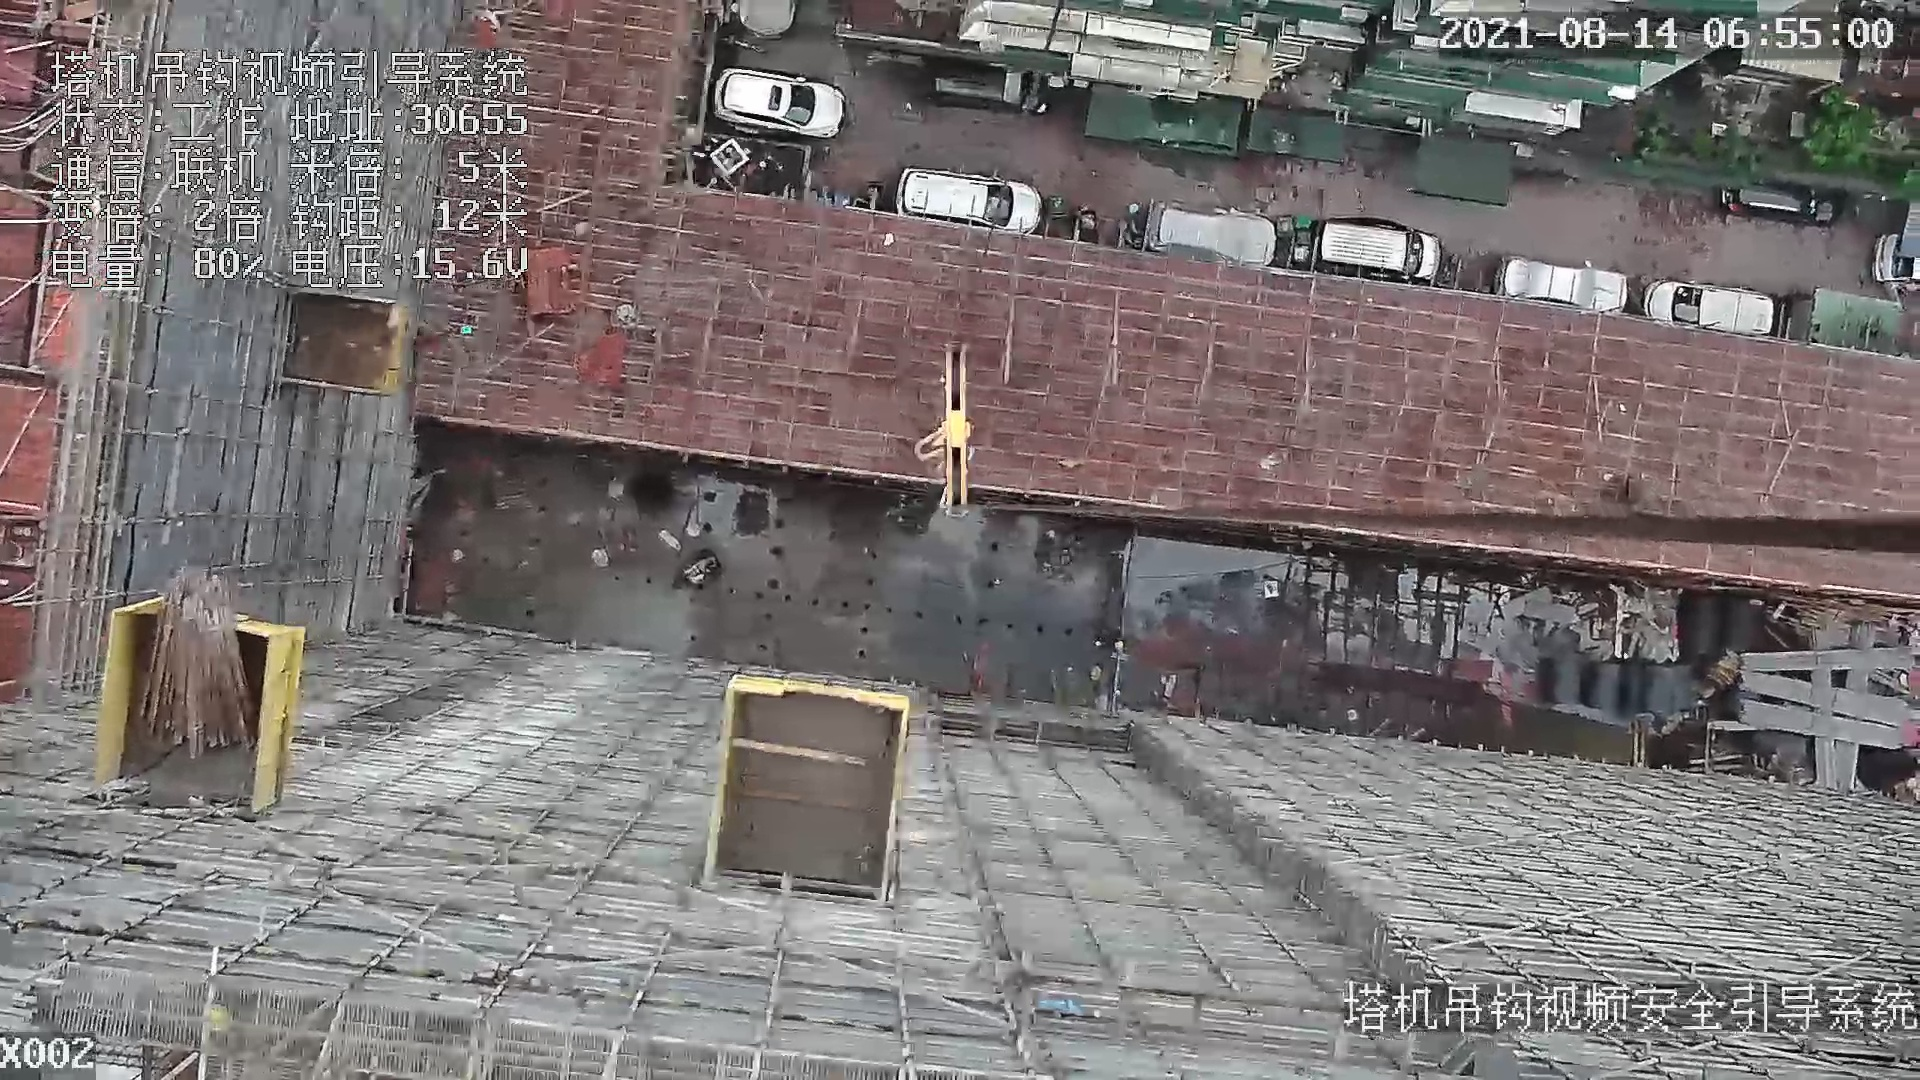hook: (909, 336, 981, 522)
rebar: (1741, 671, 1905, 729), (1743, 700, 1902, 748), (1741, 647, 1915, 671), (1, 961, 44, 1040)
scaffold: (138, 568, 256, 758)
